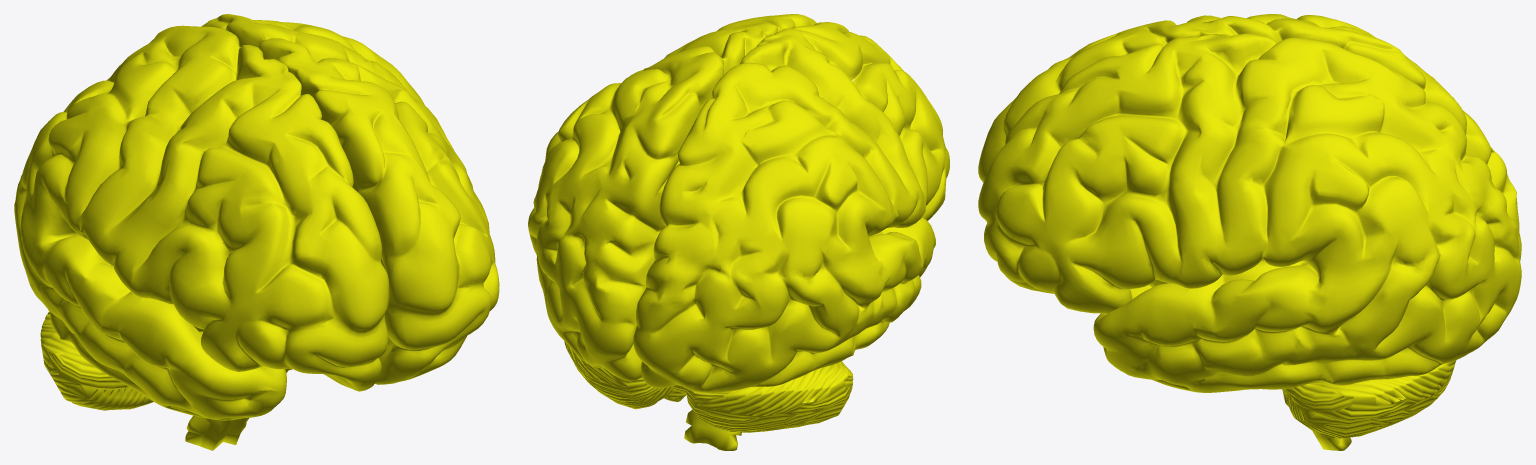
File: brain.glb
The picture shows the model from 3 angles, left to right: view 1: azimuth 30°, elevation 25°; view 2: azimuth 150°, elevation 25°; view 3: azimuth 270°, elevation 25°; orthographic projection. The views are drawn at different scales.
Visible parts, largest first — view 1: Brain_Part_06, Brain_Part_04, Brain_Part_02, Brain_Part_05; view 2: Brain_Part_06, Brain_Part_04, Brain_Part_02, Brain_Part_05; view 3: Brain_Part_04, Brain_Part_06, Brain_Part_02, Brain_Part_05.
Part boxes in pixels (x1,y1,x2,y2): Brain_Part_06: (14,25,388,420); Brain_Part_04: (184,14,499,384); Brain_Part_02: (40,312,292,410); Brain_Part_05: (185,242,288,450); Brain_Part_06: (633,22,949,392); Brain_Part_04: (528,14,816,381); Brain_Part_02: (564,341,853,432); Brain_Part_05: (684,409,741,450); Brain_Part_04: (978,33,1521,392); Brain_Part_06: (978,14,1521,260); Brain_Part_02: (1283,297,1456,438); Brain_Part_05: (1149,259,1351,450).
Size of the model in its own units: 3.8 by 4.02 by 4.73.
Materials: 1 (1 with a texture image).
